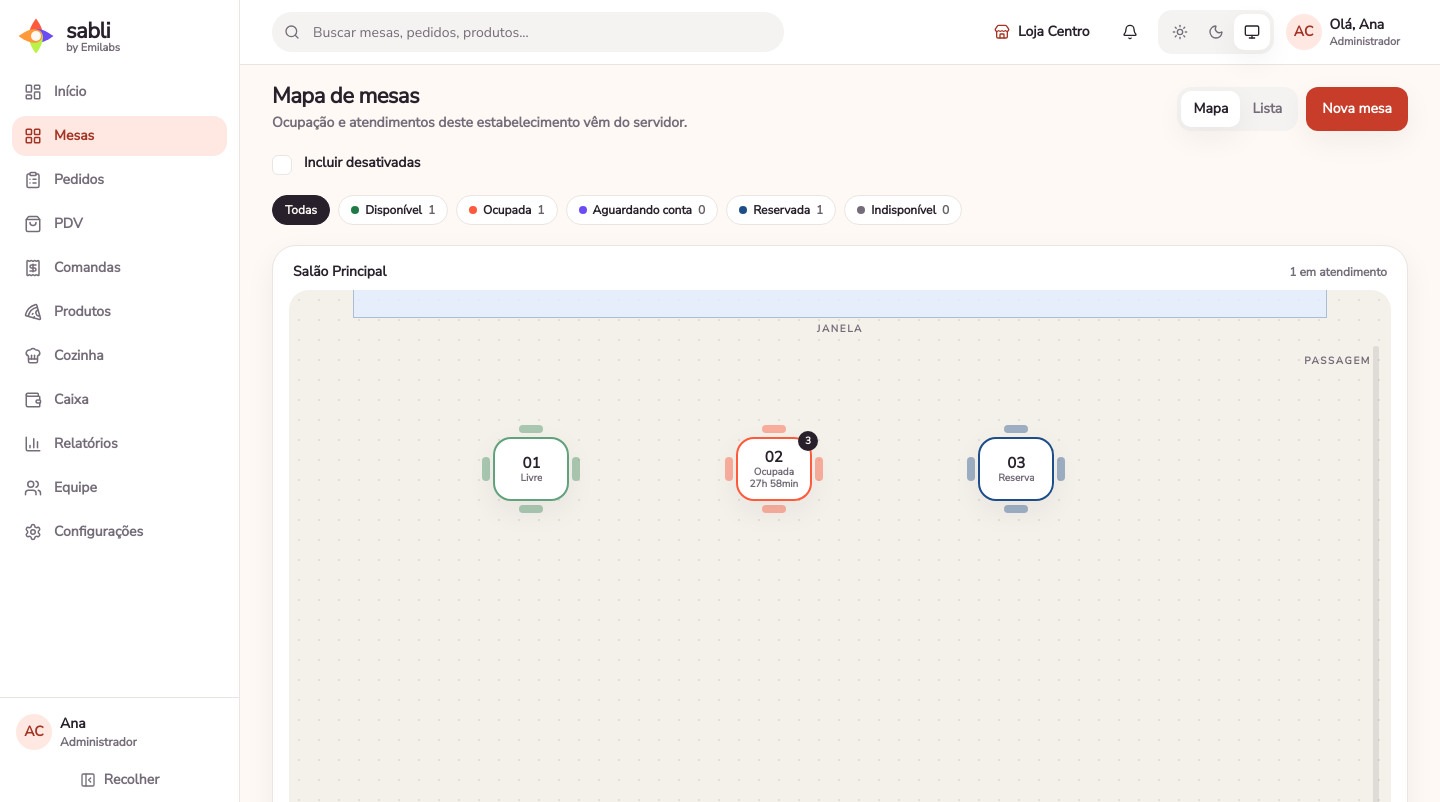
Test: mesas API › abre mesa disponível, pede conta e reabre o atendimento
Click the button with aria-label "mesa 01, disponível". click: (531, 469)
box: [482,425,580,513]
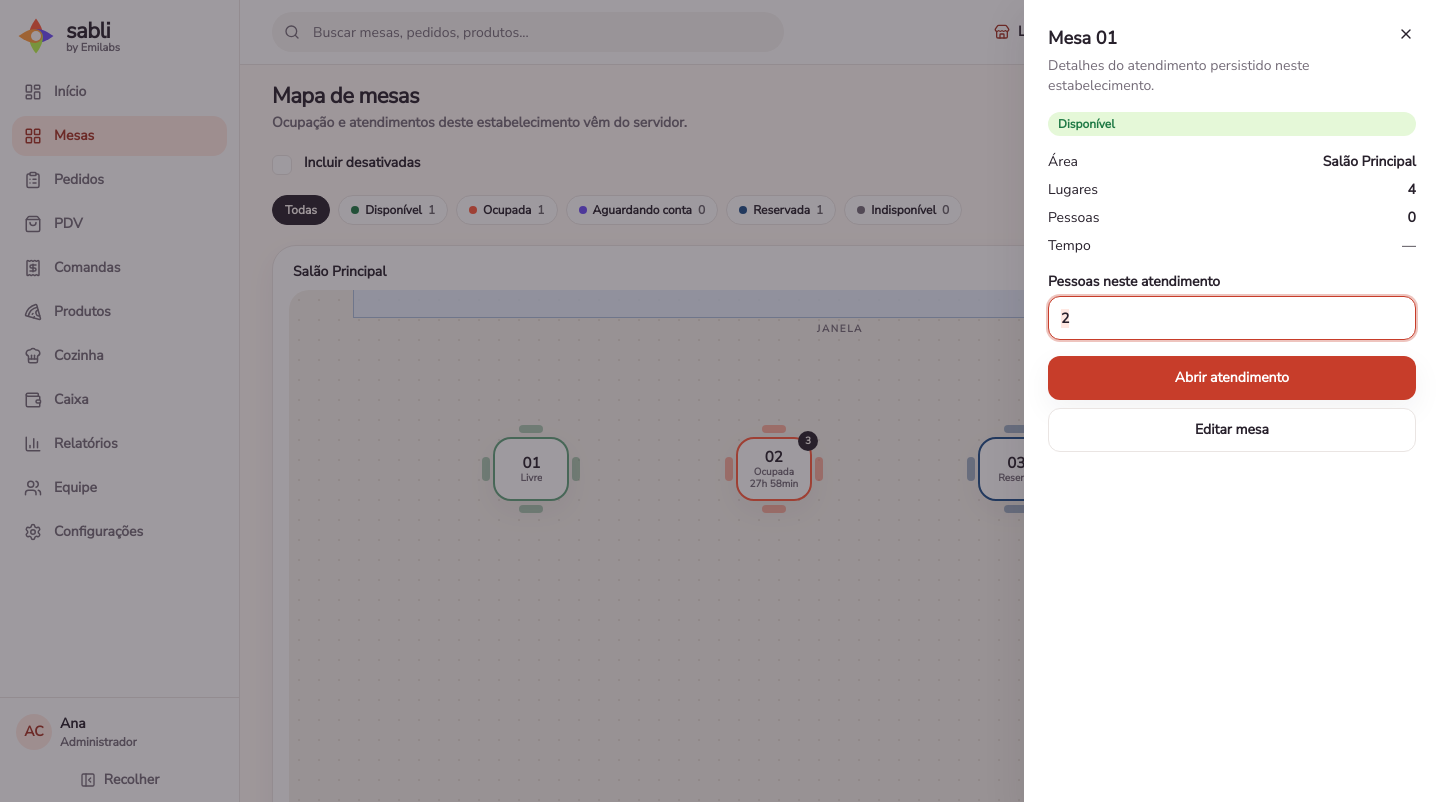
Click the button "Abrir atendimento". click: (1232, 378)
box: [1048,356,1416,400]
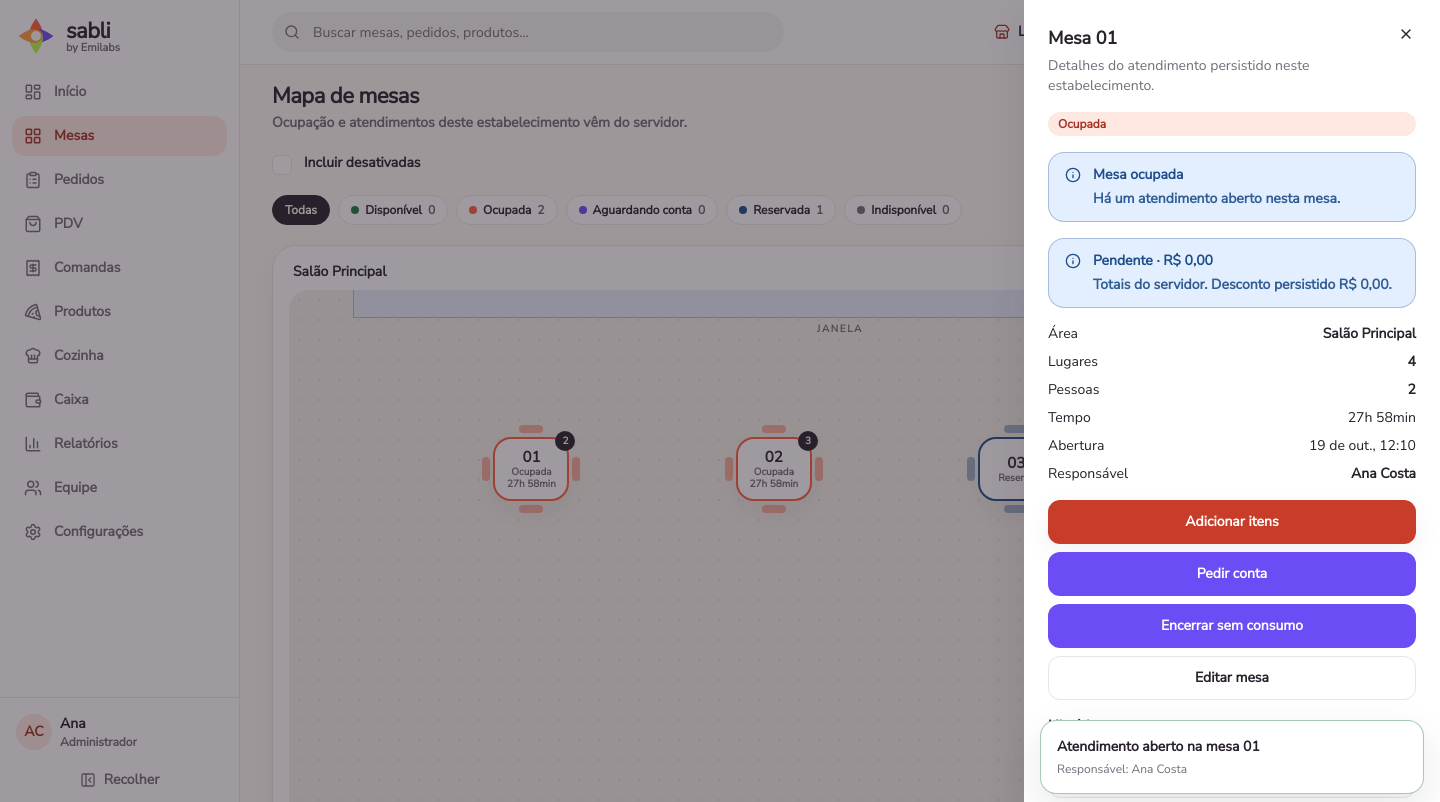
Now the text "Atendimento aberto na mesa 01" is shown, box [1057,737,1260,756]
Now the text "Ana Costa" is shown, box [1351,464,1416,484]
Now the text "Há um atendimento aberto nesta mesa." is shown, box [1093,189,1340,209]
Click the button "Pedir conta". click: (1232, 574)
box: [1048,552,1416,596]
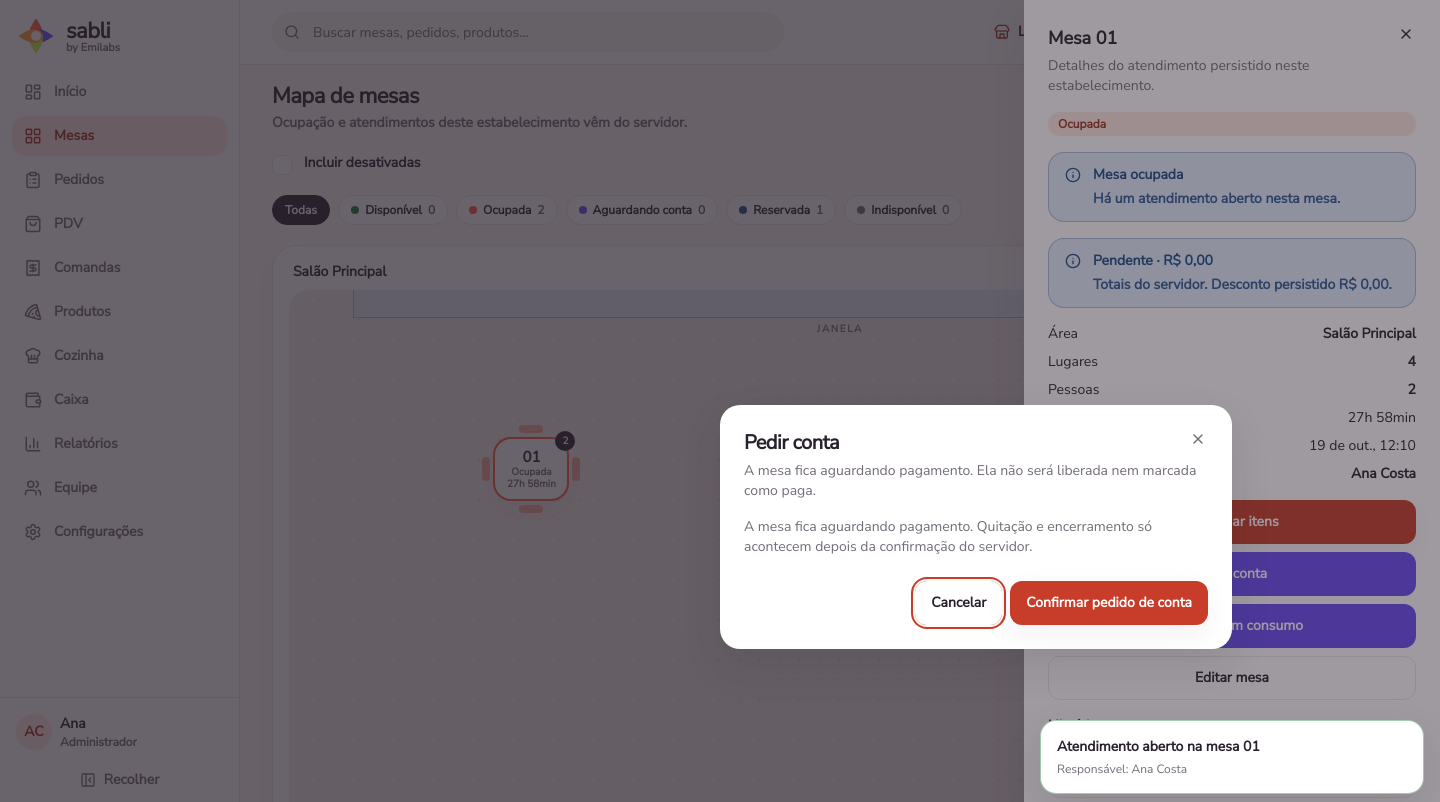
Click the button "Confirmar pedido de conta". click: (1109, 603)
box: [1010,581,1208,625]
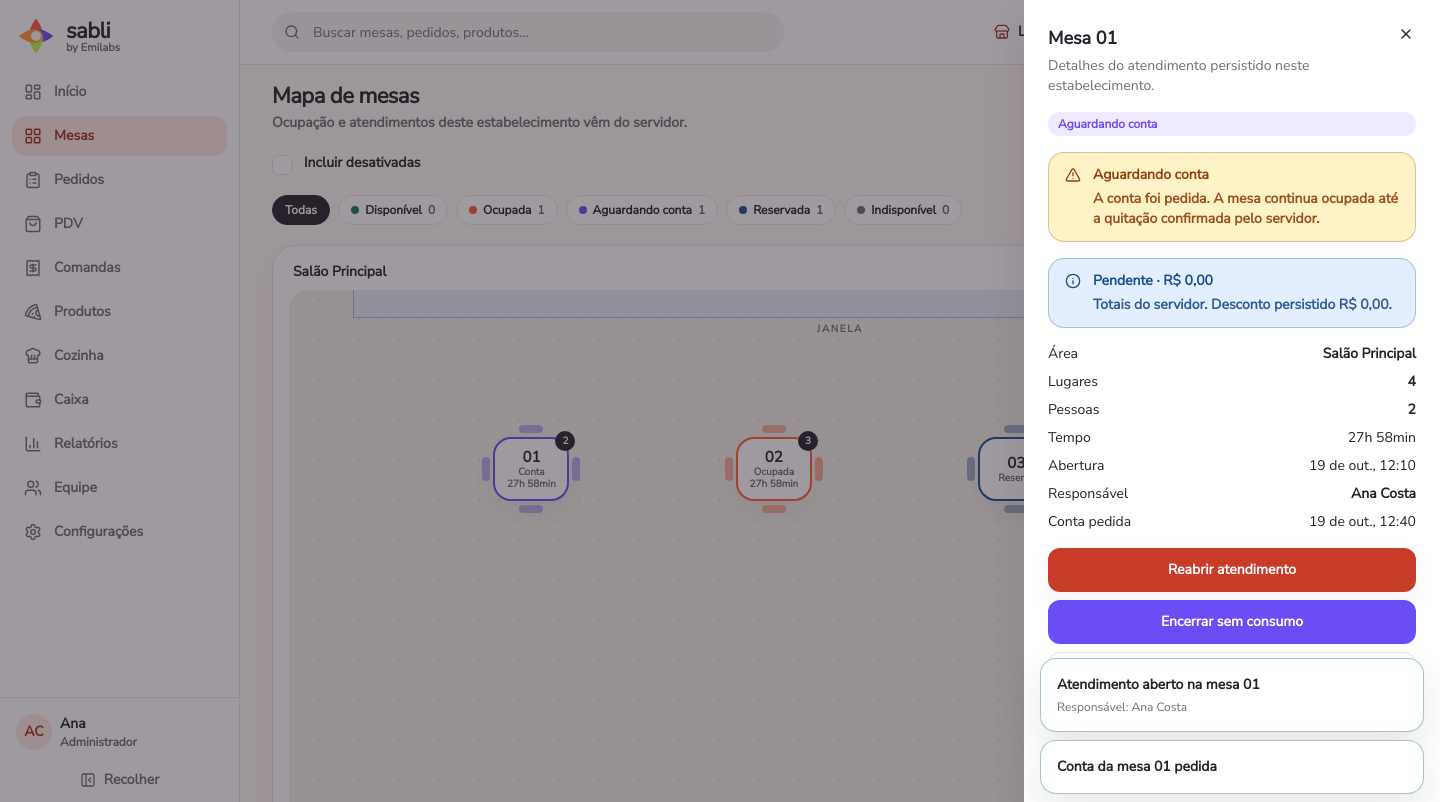
Now the text "A mesa continua ocupada até a quitação" is shown, box [1093,189,1398,228]
Click the button "Reabrir atendimento". click: (1232, 570)
box: [1048,548,1416,592]
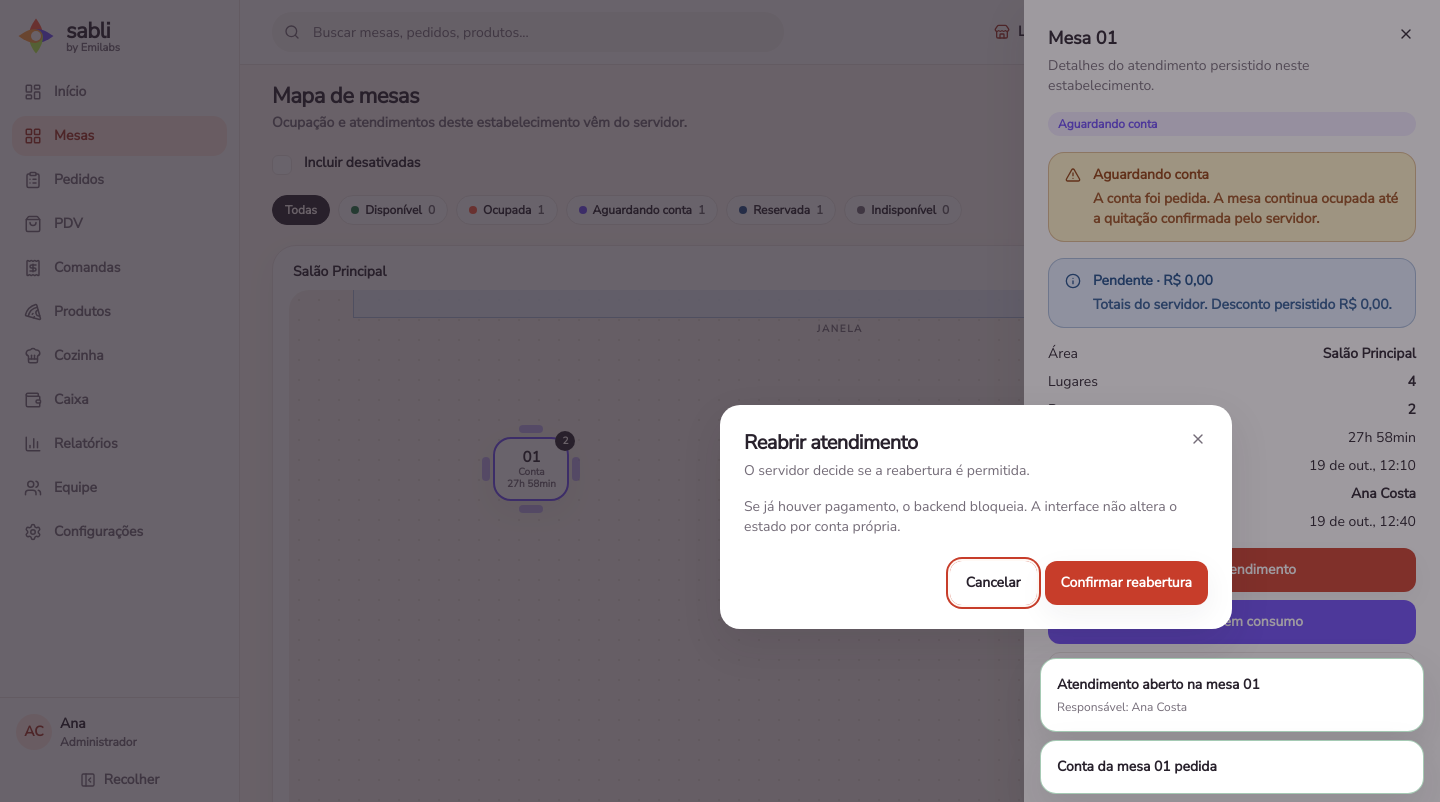
Click the button "Confirmar reabertura". click: (1126, 583)
box: [1045,561,1208,605]
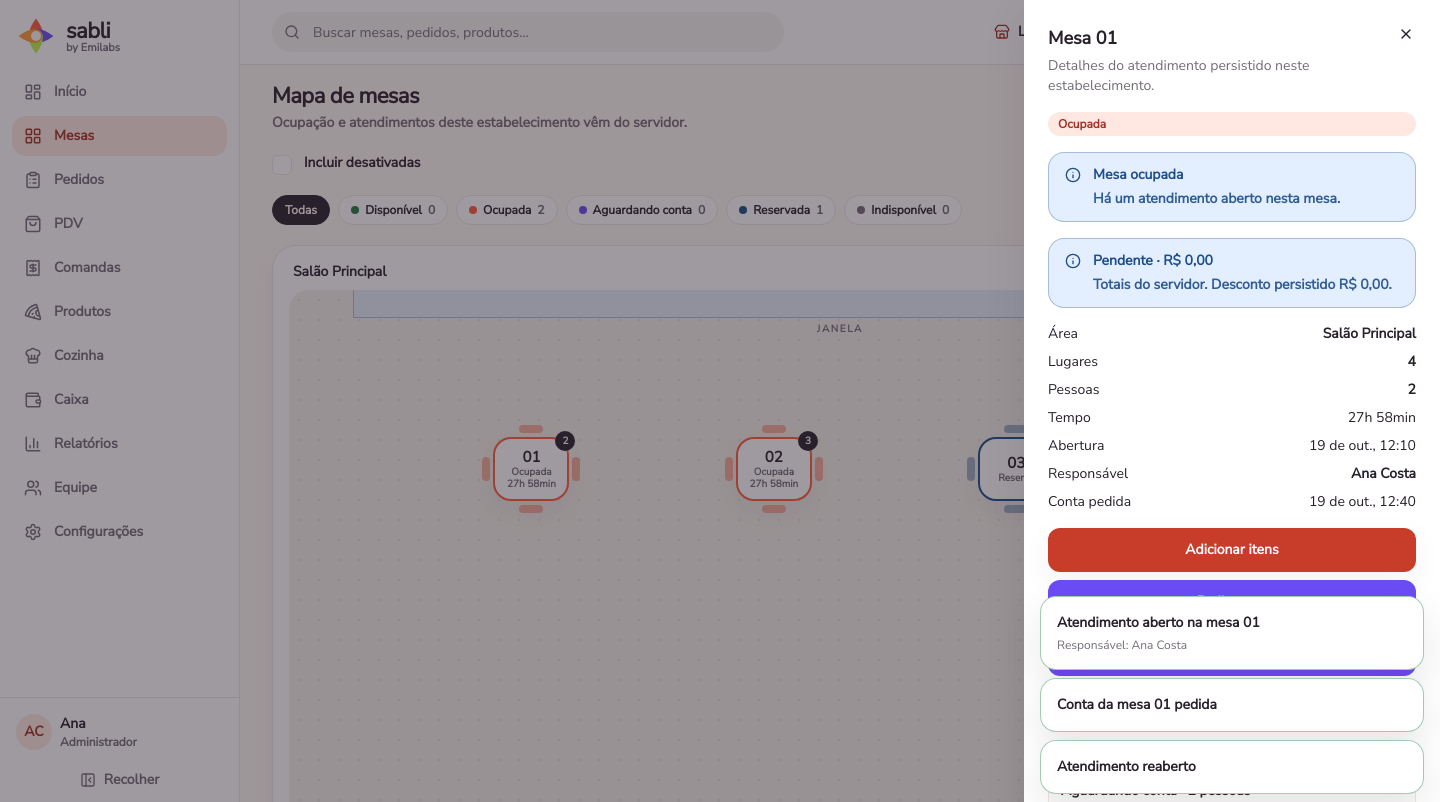
Now the button "Encerrar sem consumo" is shown, box [1048,632,1416,676]
Now the text "Há um atendimento aberto nesta mesa." is shown, box [1093,189,1340,209]
